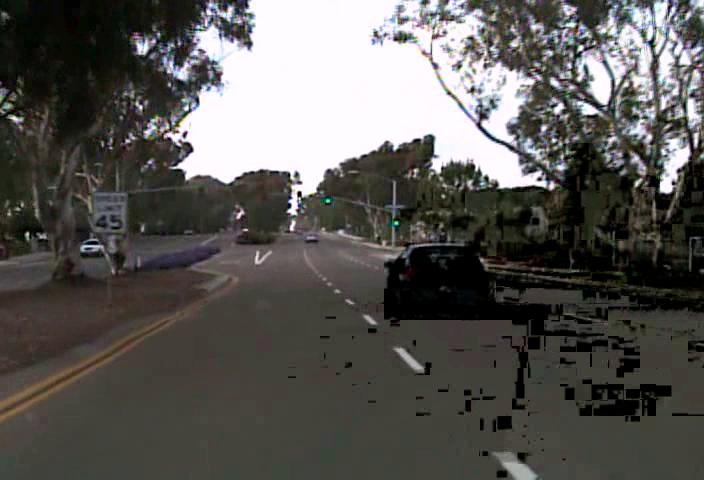speedLimit45: (90, 190, 128, 234)
